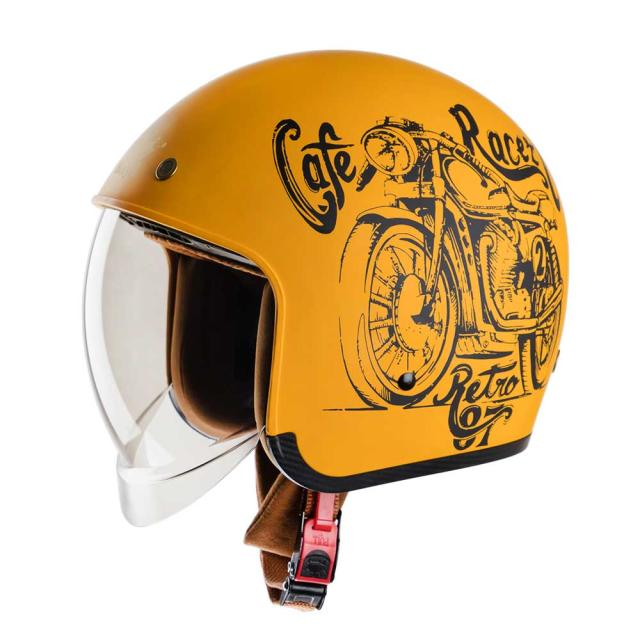Helmet: (82, 48, 571, 527)
